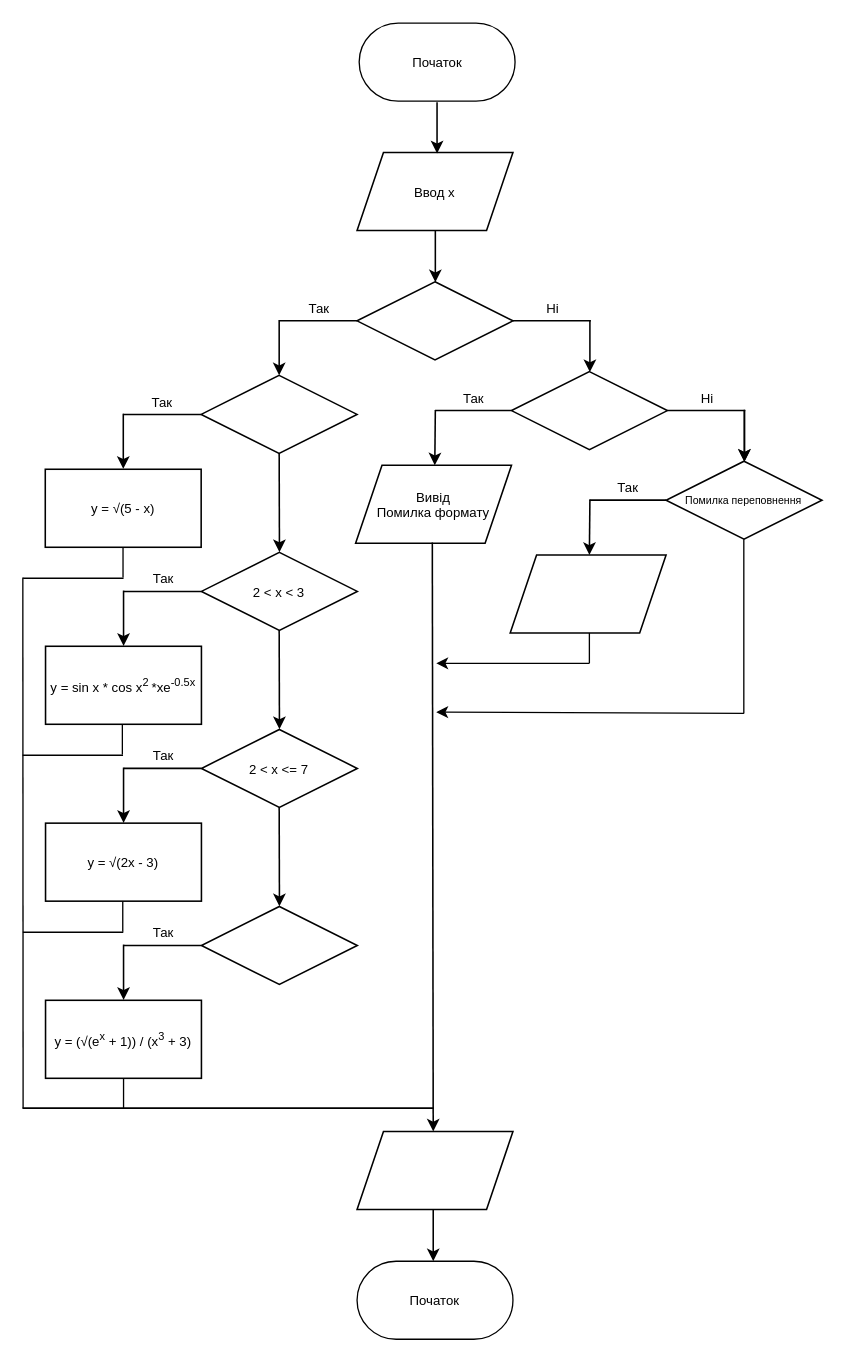
The diagram is 846 pixels wide and 1364 high, and some of its shapes have lost their labels. The centre of each missing label's shape, as x and y in pixels:
x > 7: the point at 278,945
x >= 1: the point at 278,414
x дійсне число: the point at 434,320
Вивід y: the point at 434,1170
Вивід Помилка переповнення: the point at 587,593
Помилка формату: the point at 589,410
